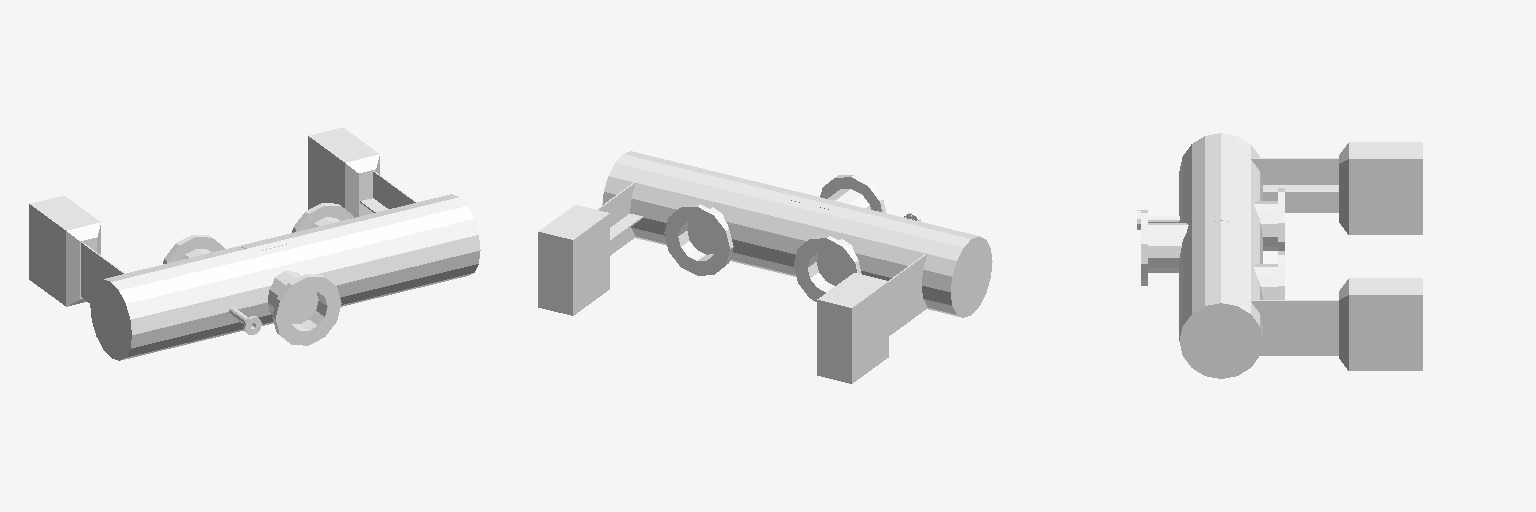
Rendered from BYjishuiqi_convert.obj.
The picture shows the model from 3 angles: view 1: azimuth 30°, elevation 25°; view 2: azimuth 150°, elevation 25°; view 3: azimuth 270°, elevation 25°; orthographic projection.
Size of the model in its own units: 8.64 by 1.8 by 6.12.